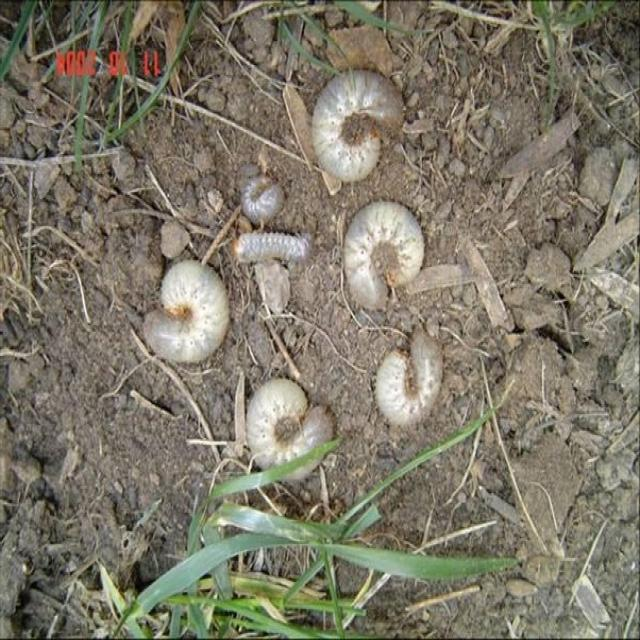grub: (235, 366, 337, 482), (307, 73, 407, 186), (331, 203, 428, 316), (139, 253, 231, 369), (368, 326, 448, 422), (224, 234, 314, 268), (245, 168, 286, 227)
